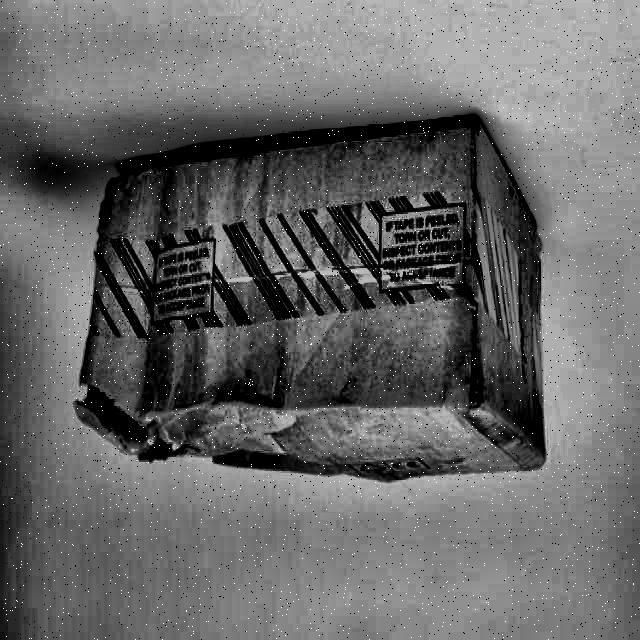box: (62, 109, 562, 496)
hole: (71, 368, 175, 472)
